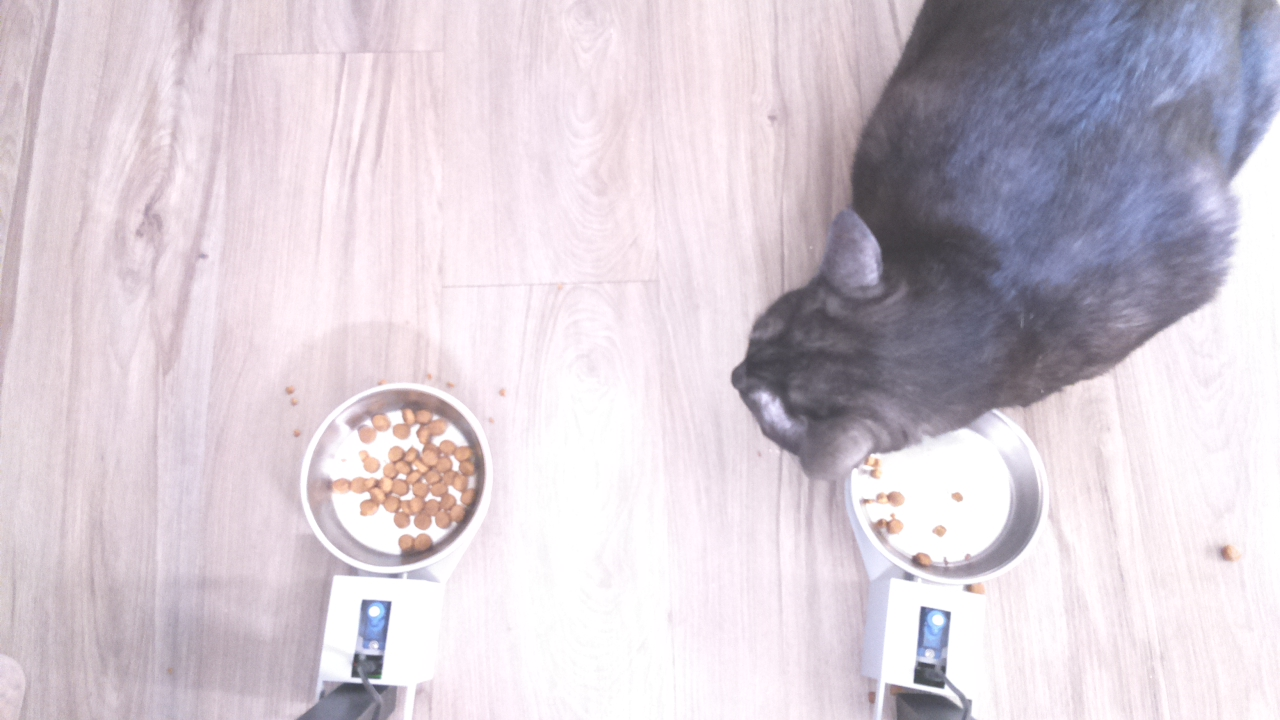open_bowl: (301, 379, 499, 572), (856, 434, 1051, 591)
saki: (718, 198, 1032, 490)
